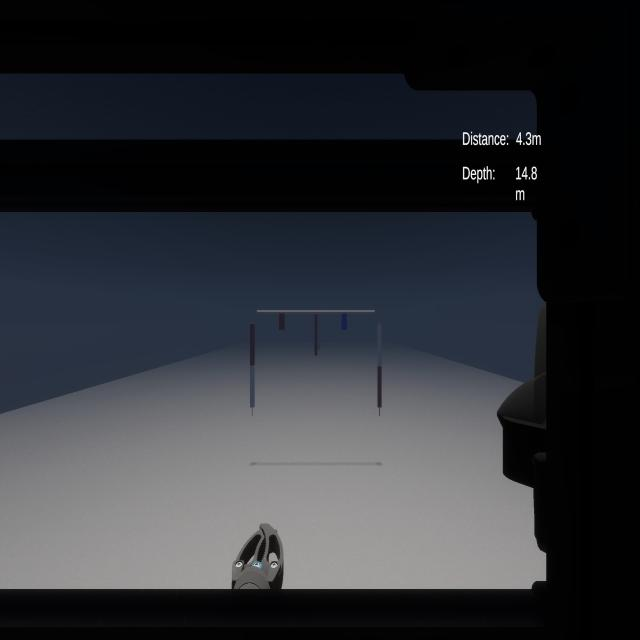Depth: (453, 159, 548, 208)
Distance: (454, 124, 548, 156)
Gate: (240, 293, 393, 428)
